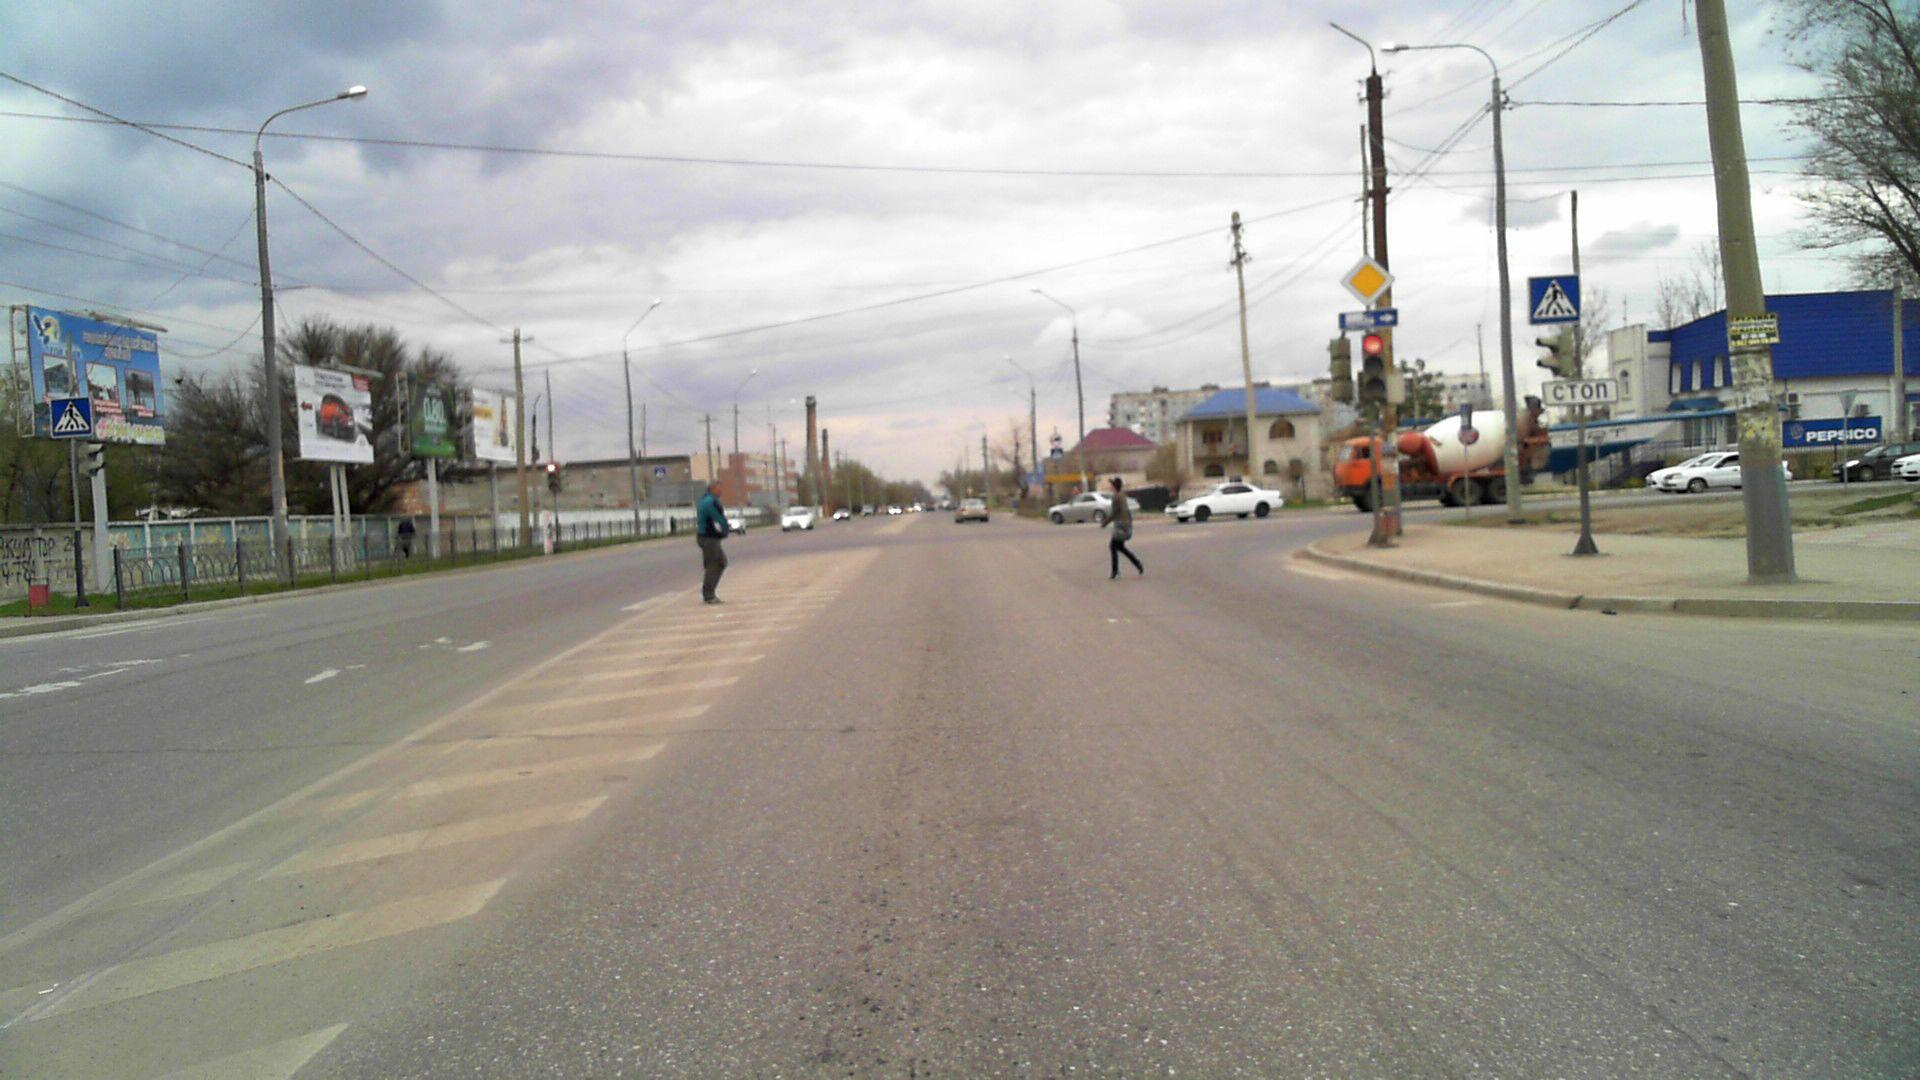2_1: (1341, 256, 1395, 309)
3_4: (1051, 433, 1063, 446)
5_19_1: (1524, 274, 1581, 324), (1048, 447, 1065, 464)
5_19_2: (653, 468, 667, 485)
6_15_2: (1338, 311, 1399, 331)
6_16: (1543, 377, 1618, 406)
